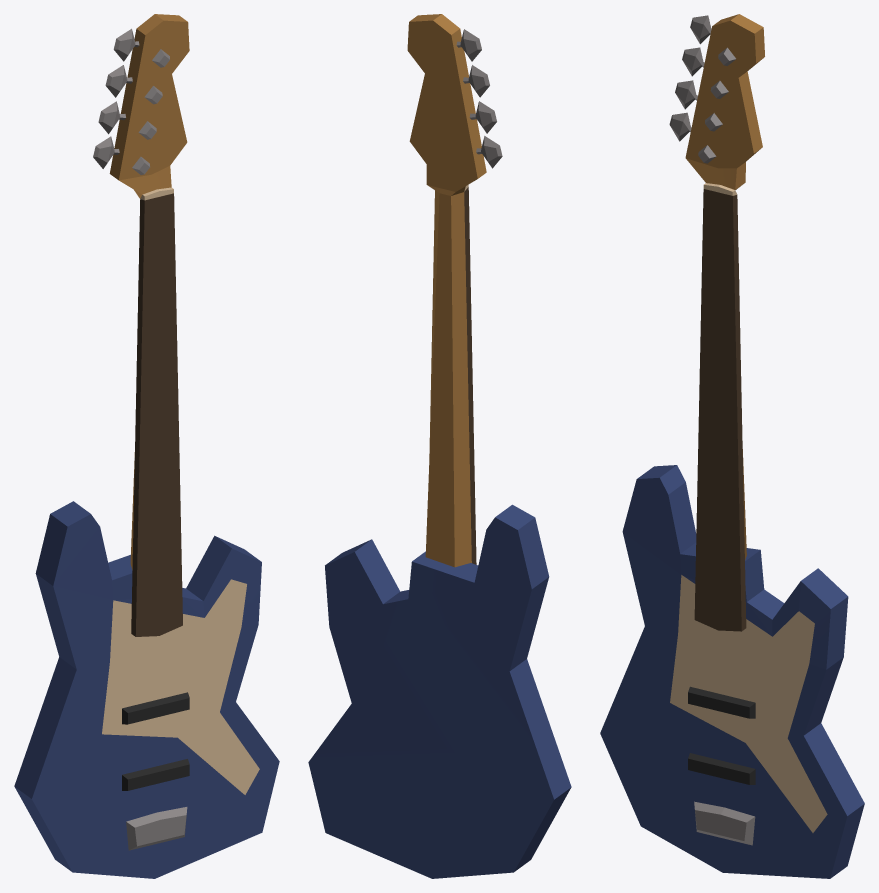
File: music_bass-guitar.fbx
3 renders of one model, left to right at view 1: azimuth 30°, elevation 25°; view 2: azimuth 150°, elevation 25°; view 3: azimuth 330°, elevation 25°, orthographic.
Visible parts, largest first — view 1: music_bass_guitar; view 2: music_bass_guitar; view 3: music_bass_guitar.
Boxes of the visible parts, <box> form: music_bass_guitar: <box>14,14,279,878</box>; music_bass_guitar: <box>308,14,571,878</box>; music_bass_guitar: <box>600,14,864,878</box>.
Size of the model in its own units: 60.55 by 200 by 9.6.
